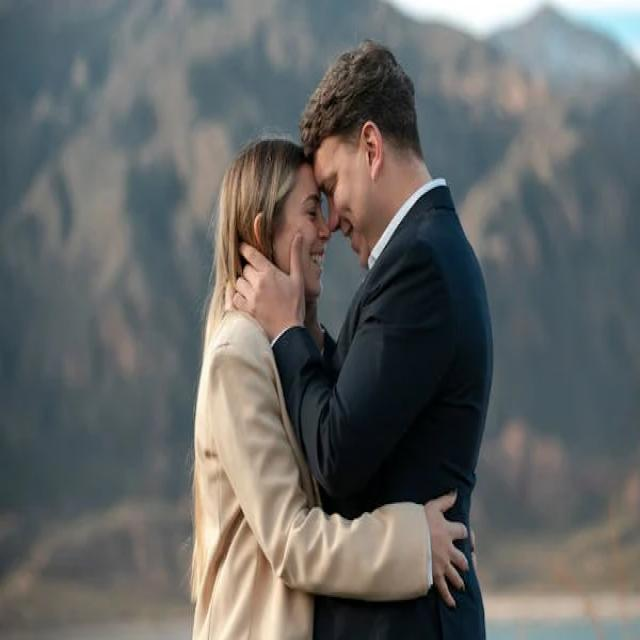Real human 2: (185, 23, 499, 640)
